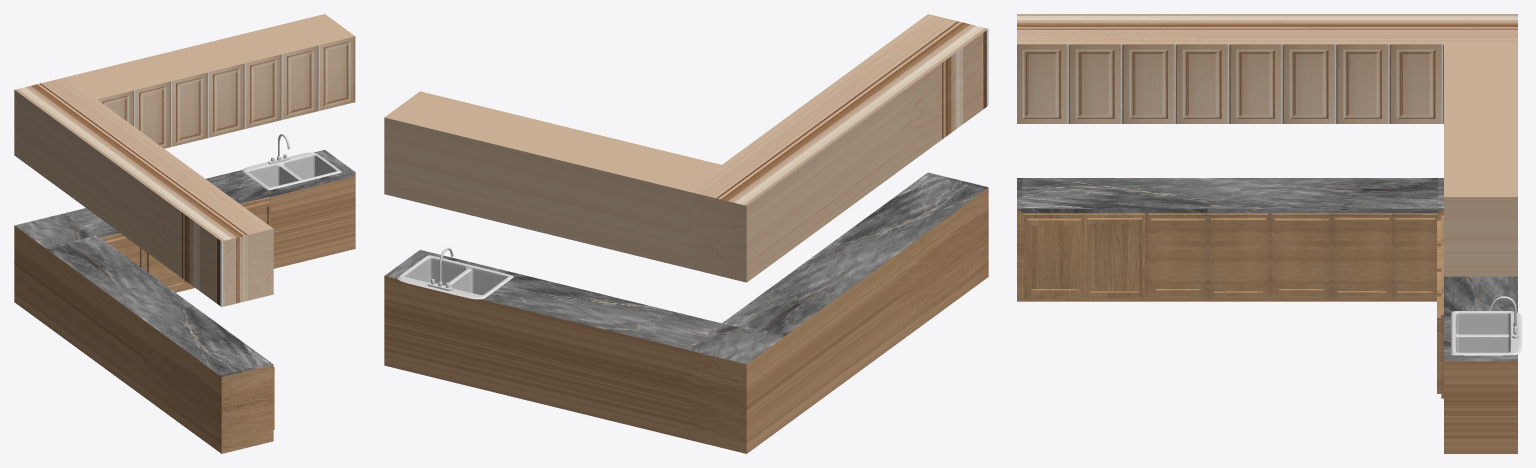
The model's file is kitchen.glb.
The picture shows the model from 3 angles, left to right: view 1: azimuth 30°, elevation 25°; view 2: azimuth 150°, elevation 25°; view 3: azimuth 270°, elevation 25°; orthographic projection. The views are drawn at different scales.
Parts seen in each view (by area): view 1: Cube.044, Cube.043, KitchenSink, Plane.012, Plane.010, Plane.015; view 2: Cube.043, Cube.044, KitchenSink; view 3: Cube.044, Cube.043, Plane, Plane.005, Plane.002, Plane.003, Plane.006, Plane.008, Plane.009, KitchenSink, Plane.015.
Part boxes in pixels (left/top/right/bottom): Cube.044: left=14, top=14, right=355, bottom=306; Cube.043: left=14, top=150, right=355, bottom=453; KitchenSink: left=242, top=152, right=341, bottom=189; Plane.012: left=145, top=251, right=188, bottom=290; Plane.010: left=101, top=233, right=144, bottom=269; Plane.015: left=240, top=197, right=270, bottom=226; Cube.043: left=384, top=172, right=988, bottom=453; Cube.044: left=384, top=14, right=988, bottom=282; KitchenSink: left=397, top=255, right=513, bottom=299; Cube.044: left=1017, top=14, right=1517, bottom=276; Cube.043: left=1017, top=178, right=1517, bottom=453; Plane: left=1024, top=213, right=1084, bottom=298; Plane.005: left=1208, top=213, right=1268, bottom=298; Plane.002: left=1084, top=213, right=1144, bottom=298; Plane.003: left=1148, top=213, right=1208, bottom=298; Plane.006: left=1271, top=213, right=1331, bottom=298; Plane.008: left=1332, top=213, right=1392, bottom=298; Plane.009: left=1392, top=213, right=1436, bottom=298; KitchenSink: left=1451, top=311, right=1521, bottom=355; Plane.015: left=1437, top=290, right=1443, bottom=398.
Size of the model in its own units: 4.55 by 2.98 by 5.31.
5 materials, 4 textured.
